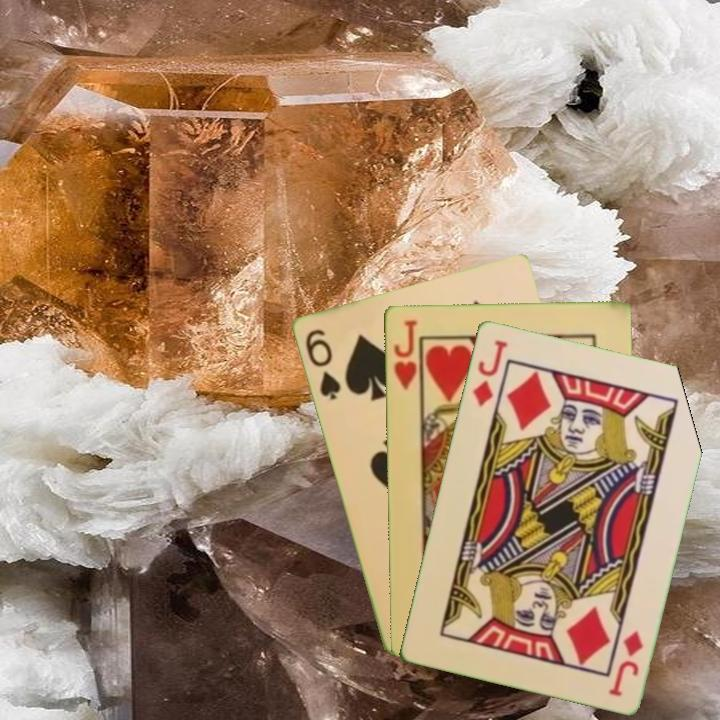6s: (301, 325, 343, 403)
Jd: (469, 336, 510, 409), (605, 627, 646, 699)
Jh: (390, 316, 423, 398)
